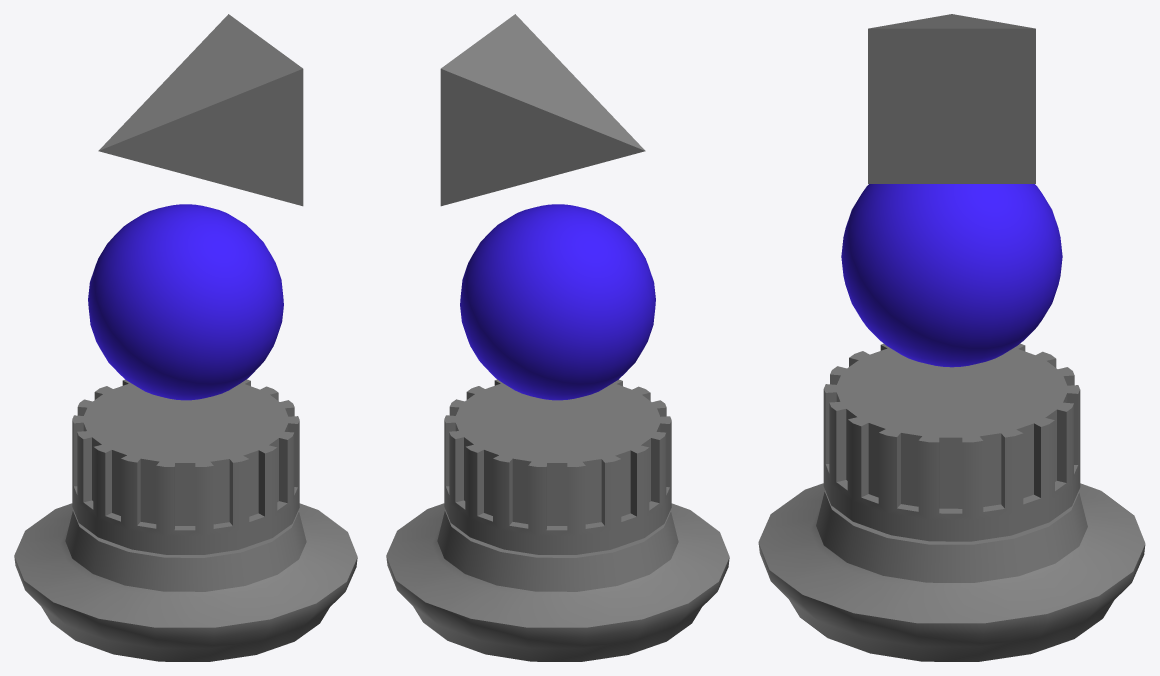
File: puzzle_prop_pillar_0821.fbx
3 renders of one model, left to right at view 1: azimuth 30°, elevation 25°; view 2: azimuth 150°, elevation 25°; view 3: azimuth 270°, elevation 25°, orthographic. The views are drawn at different scales.
Parts seen in each view (by area): view 1: Temple_Pilliar_for_puzzle_razer; view 2: Temple_Pilliar_for_puzzle_razer; view 3: Temple_Pilliar_for_puzzle_razer.
Part boxes in pixels (x1,y1,x2,y2): Temple_Pilliar_for_puzzle_razer: (14, 14, 357, 661); Temple_Pilliar_for_puzzle_razer: (386, 14, 729, 661); Temple_Pilliar_for_puzzle_razer: (758, 14, 1145, 661).
Size of the model in its own units: 764 by 1347 by 774.
